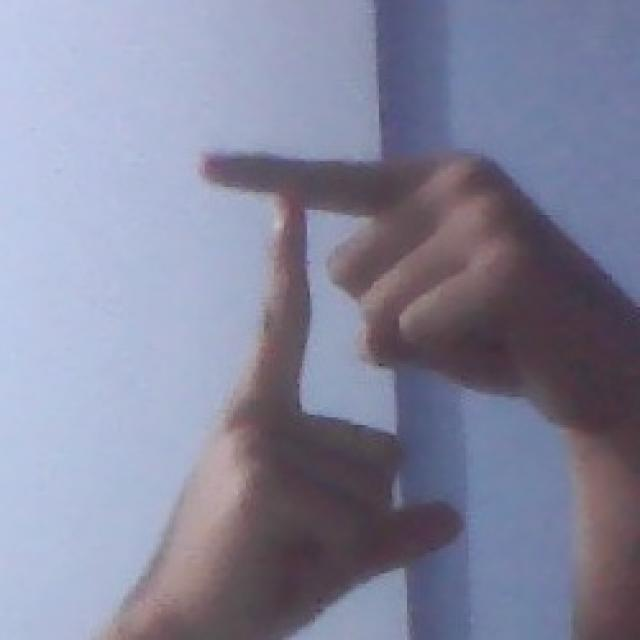Alphabet-T: (165, 133, 636, 629)
